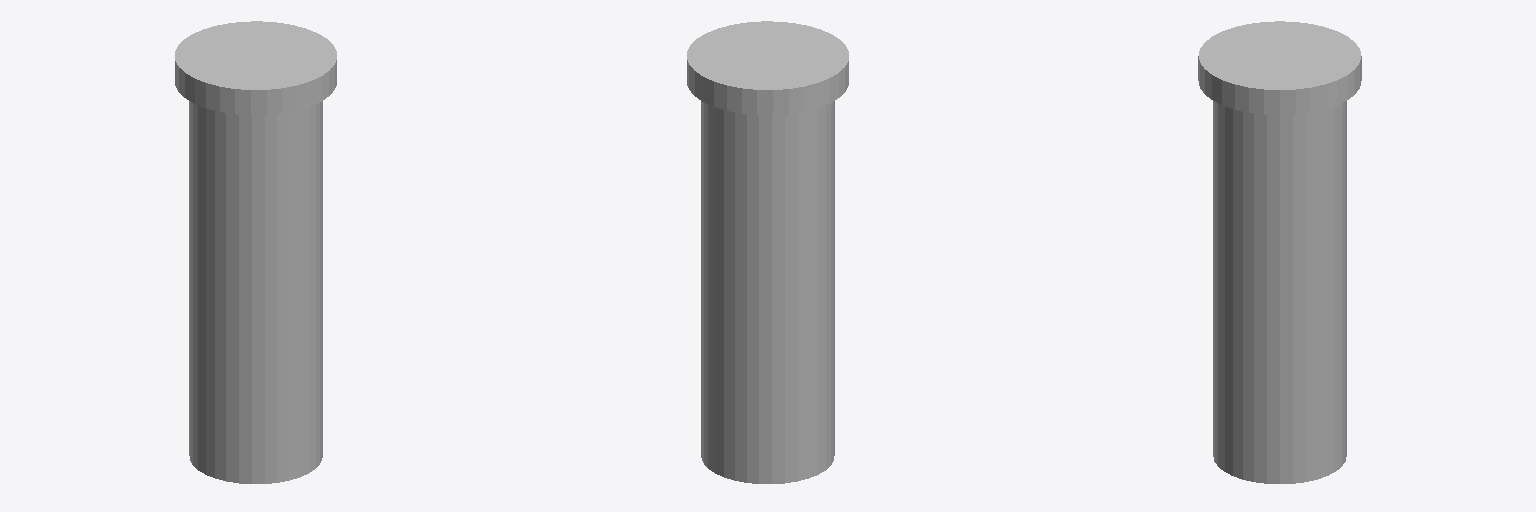
The model's file is Medical Pen Body.obj.
The picture shows the model from 3 angles: view 1: azimuth 30°, elevation 25°; view 2: azimuth 150°, elevation 25°; view 3: azimuth 270°, elevation 25°; orthographic projection.
Parts seen in each view (by area): view 1: Medpen_Cylinder.001; view 2: Medpen_Cylinder.001; view 3: Medpen_Cylinder.001.
Part boxes in pixels (x1,y1,x2,y2): Medpen_Cylinder.001: (175,21,336,483); Medpen_Cylinder.001: (687,21,848,483); Medpen_Cylinder.001: (1198,21,1361,483).
Size of the model in its own units: 0.4708 by 1.28 by 0.4708.